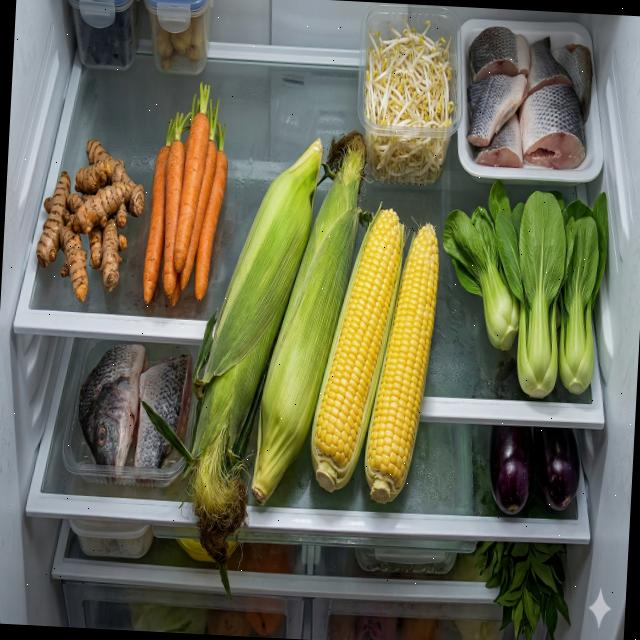bean_sprouts: (359, 11, 459, 188)
carrot: (142, 111, 232, 310)
corn: (182, 120, 448, 612)
curry_leaves: (471, 537, 576, 640)
eggplant: (485, 424, 583, 520)
fish: (464, 23, 596, 170), (74, 341, 194, 487)
pakchoy: (434, 178, 612, 402)
turmeric: (34, 136, 148, 307)
